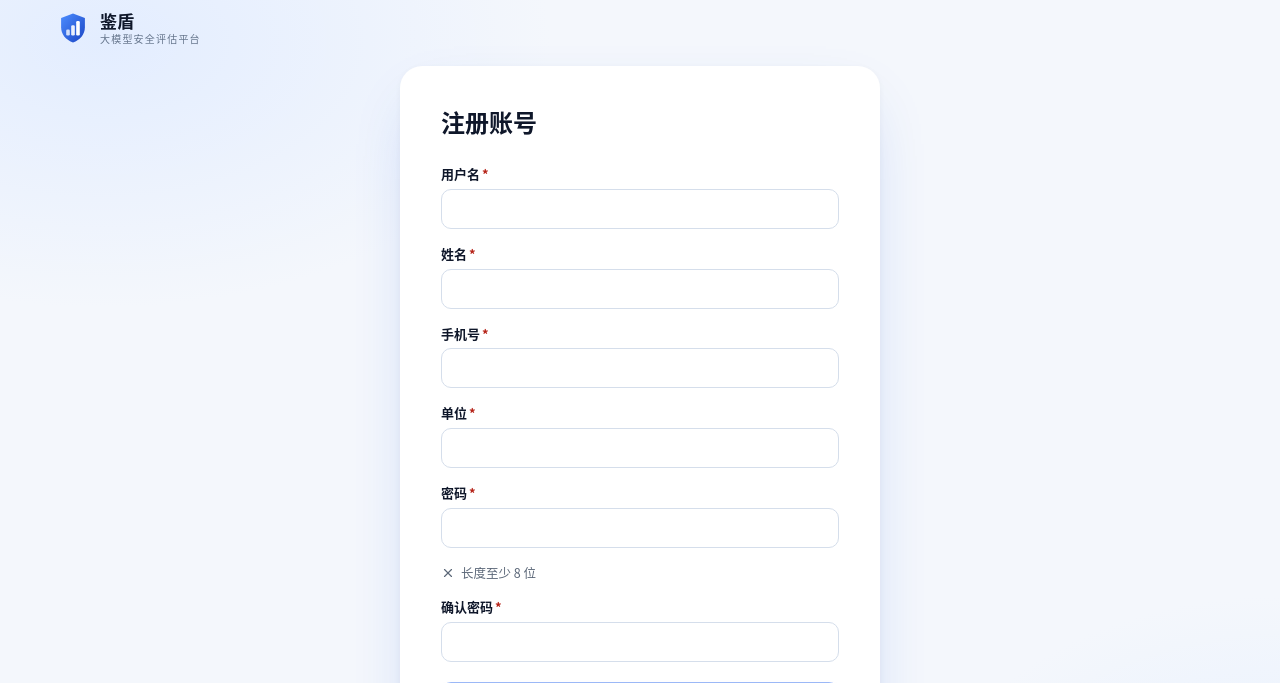
RegisterPage › 服务端校验失败时显示具体原因
Type "zhangsan" into the field labelled "用户名*" at point(640, 209), box 441,189 -> 839,229
Type "张三" into the field labelled "姓名*" at point(640, 288), box 441,268 -> 839,308
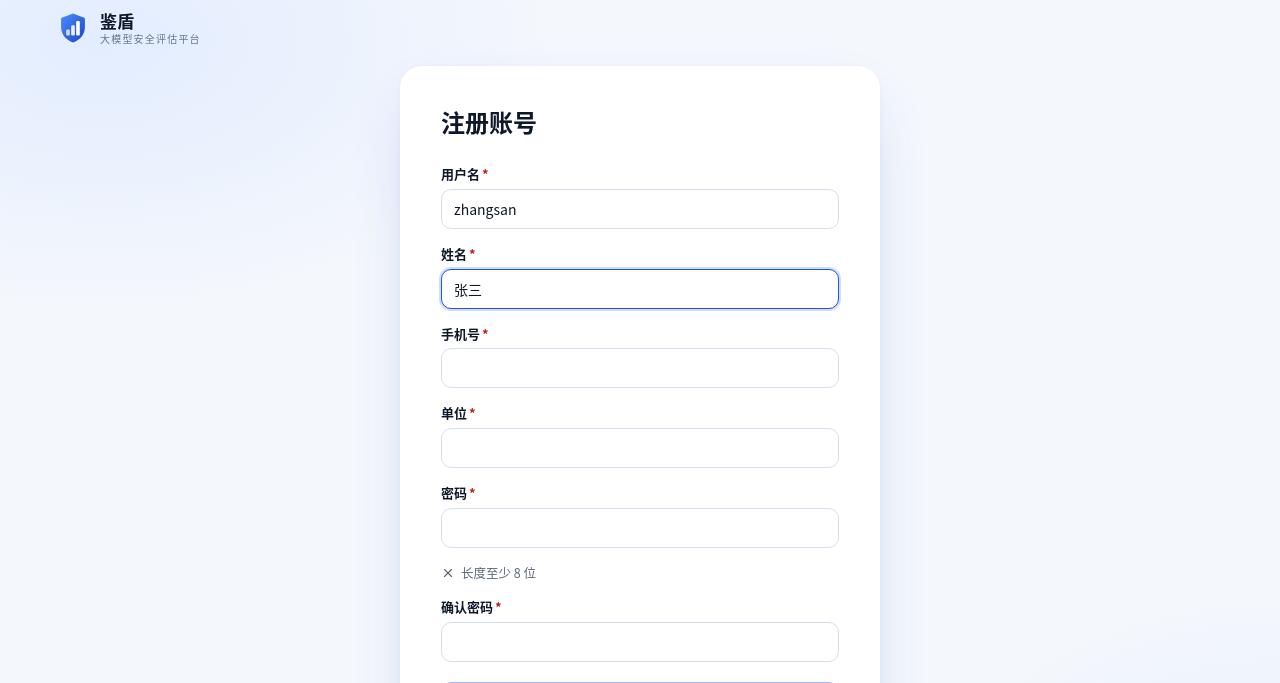
Type "13800138000" into the field labelled "手机号*" at point(640, 368), box 441,348 -> 839,388
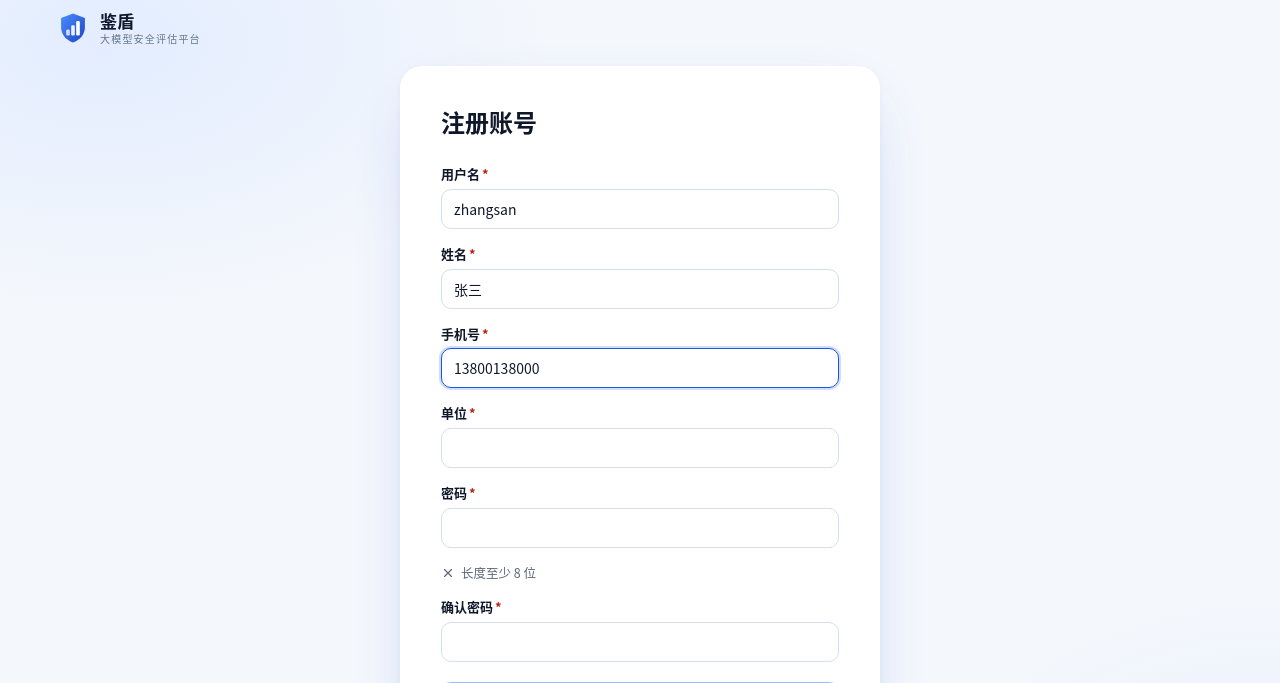
Type "测试单位" into the field labelled "单位*" at point(640, 448), box 441,428 -> 839,468
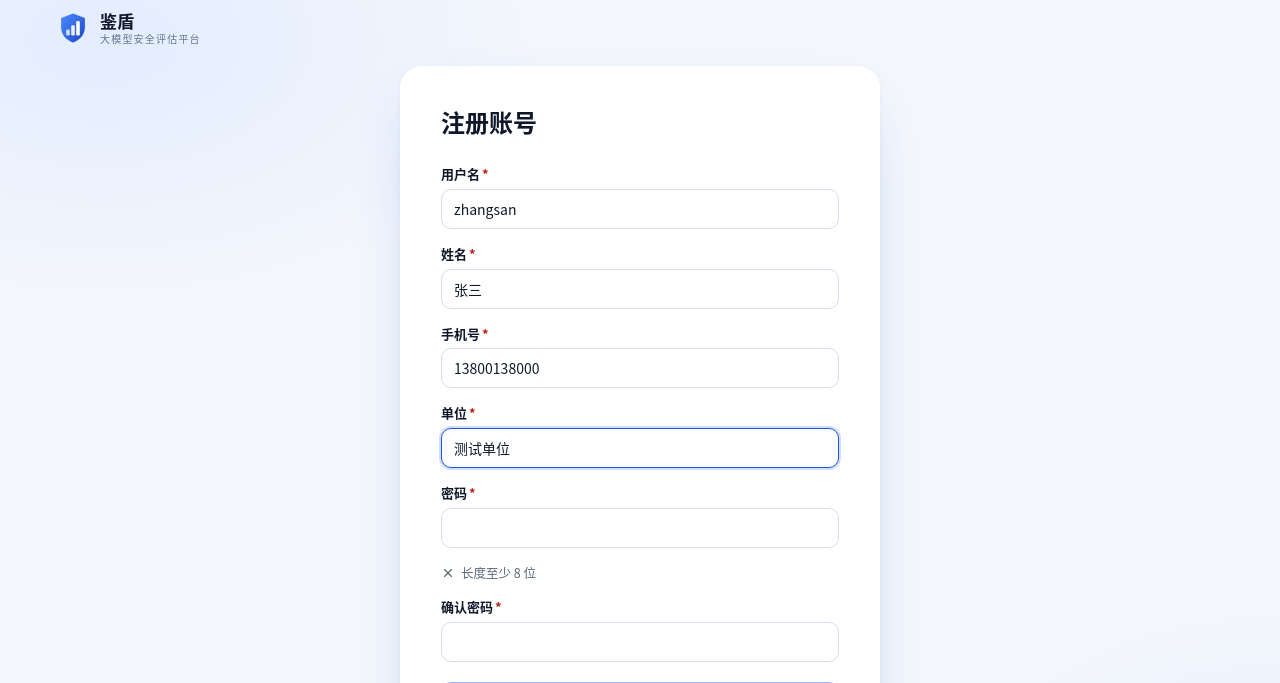
Type "Register@123" into the password field labelled "密码*" at point(640, 528), box 441,508 -> 839,548
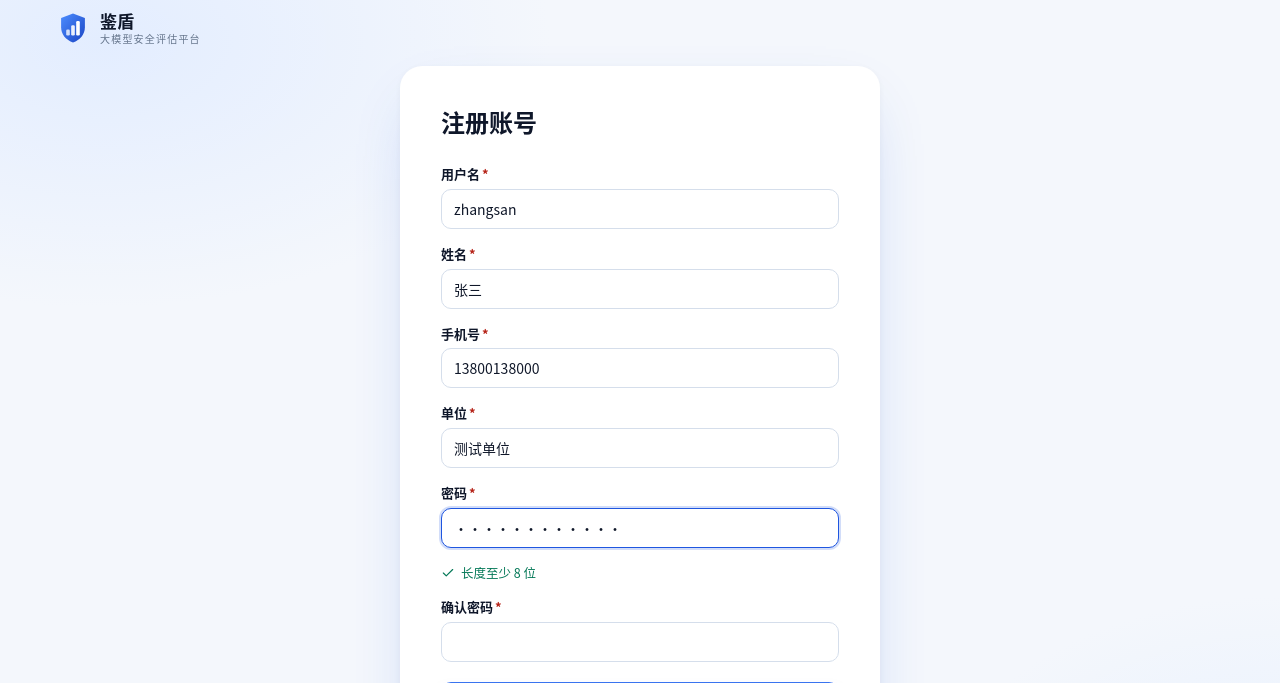
Type "Register@123" into the password field labelled "确认密码*" at point(640, 642), box 441,622 -> 839,662
(page scrolled)
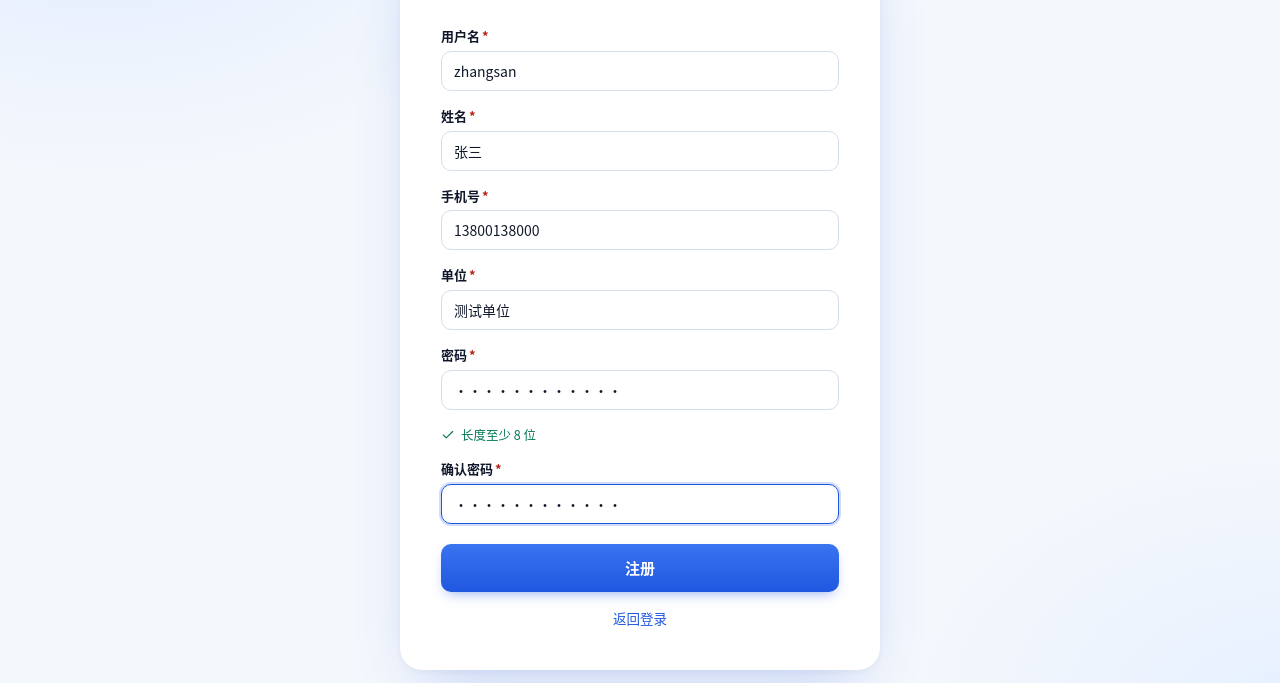
Click the button "注册" at point(640, 568), box 441,544 -> 839,592
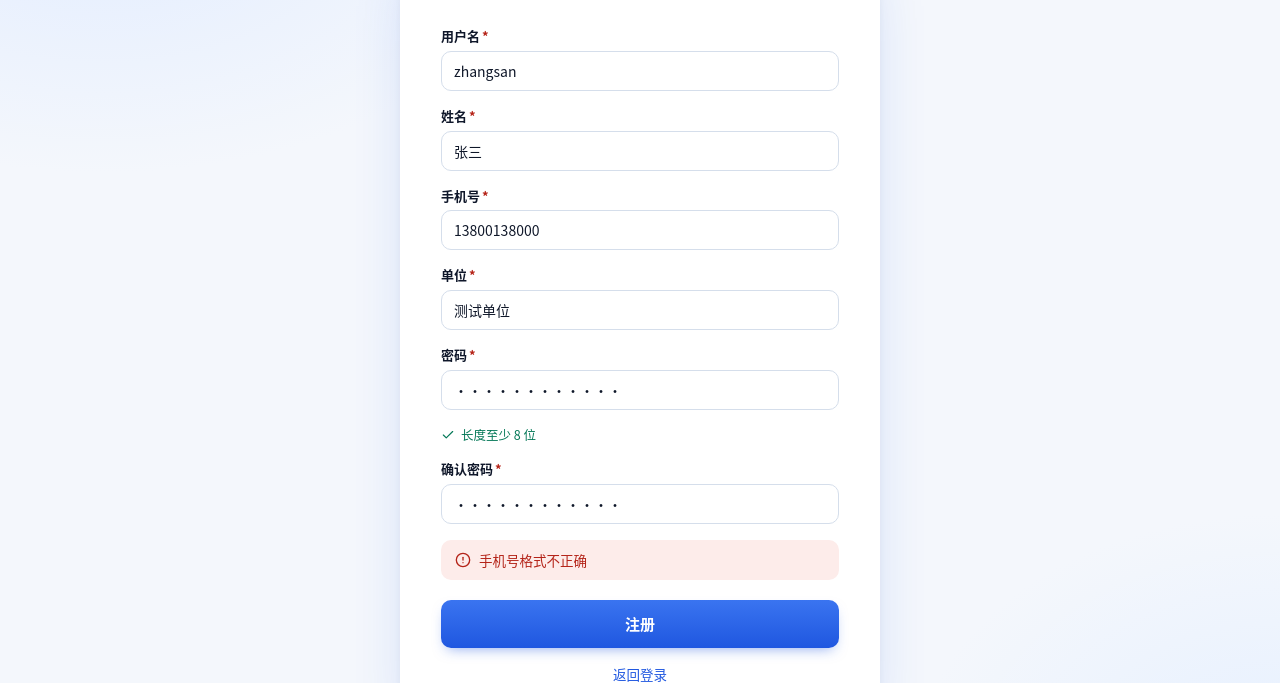
Check: the text "手机号格式不正确" is shown, box 479,550 -> 587,570
